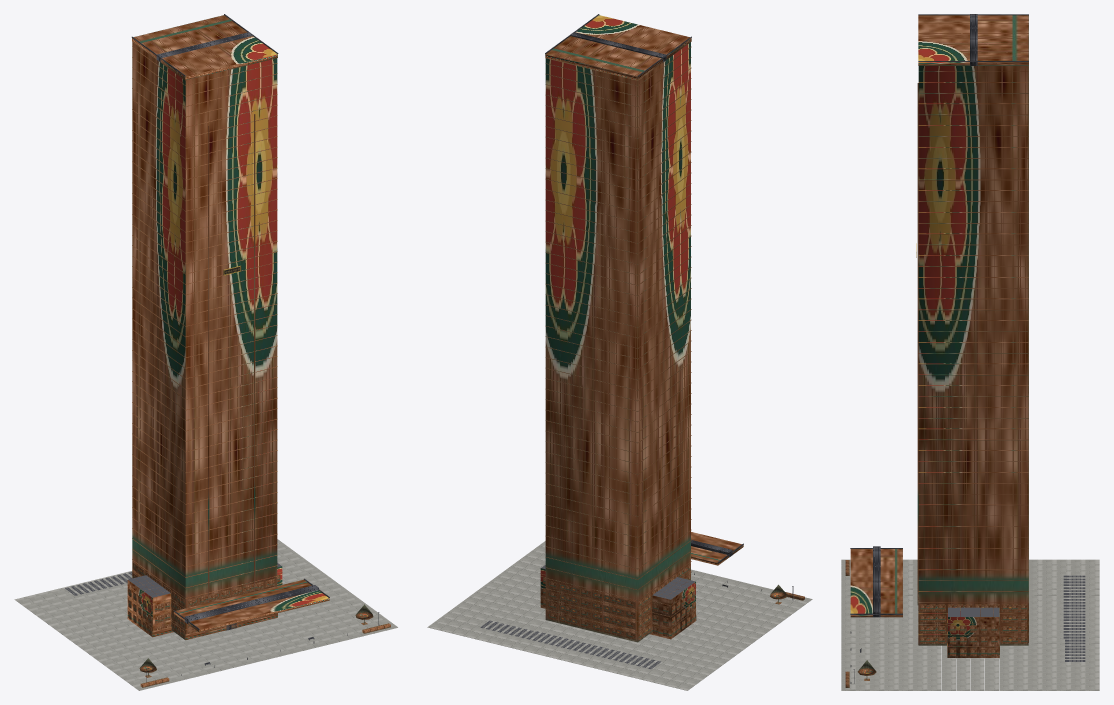
The picture shows the model from 3 angles, left to right: view 1: azimuth 30°, elevation 25°; view 2: azimuth 150°, elevation 25°; view 3: azimuth 270°, elevation 25°; orthographic projection. The views are drawn at different scales.
Parts seen in each view (by area): view 1: 11680_01_06238_002_02__mass_body_facade, 11680_01_06238_002_01__plinth_ground_base, 11680_01_06238_002_03__roof_metal_ornament, 11680_01_06238_002_03__roof_deck_structure, 11680_01_06238_002_06__landscape_greenery; view 2: 11680_01_06238_002_02__mass_body_facade, 11680_01_06238_002_01__plinth_ground_base, 11680_01_06238_002_03__roof_deck_structure, 11680_01_06238_002_03__roof_metal_ornament; view 3: 11680_01_06238_002_02__mass_body_facade, 11680_01_06238_002_01__plinth_ground_base, 11680_01_06238_002_03__roof_deck_structure, 11680_01_06238_002_03__roof_metal_ornament.
Part boxes in pixels (x1=…): 11680_01_06238_002_02__mass_body_facade: x1=127, y1=15, x2=329, y2=640; 11680_01_06238_002_01__plinth_ground_base: x1=14, y1=539, x2=397, y2=690; 11680_01_06238_002_03__roof_metal_ornament: x1=131, y1=14, x2=329, y2=629; 11680_01_06238_002_03__roof_deck_structure: x1=65, y1=563, x2=281, y2=597; 11680_01_06238_002_06__landscape_greenery: x1=139, y1=604, x2=390, y2=687; 11680_01_06238_002_02__mass_body_facade: x1=540, y1=15, x2=743, y2=642; 11680_01_06238_002_01__plinth_ground_base: x1=427, y1=541, x2=812, y2=690; 11680_01_06238_002_03__roof_deck_structure: x1=480, y1=565, x2=695, y2=669; 11680_01_06238_002_03__roof_metal_ornament: x1=545, y1=14, x2=743, y2=562; 11680_01_06238_002_02__mass_body_facade: x1=850, y1=15, x2=1028, y2=657; 11680_01_06238_002_01__plinth_ground_base: x1=841, y1=559, x2=1099, y2=690; 11680_01_06238_002_03__roof_deck_structure: x1=948, y1=575, x2=1085, y2=661; 11680_01_06238_002_03__roof_metal_ornament: x1=850, y1=14, x2=1028, y2=617.
Bounding box in the file's own units: 95.95 × 201 × 79.95.
7 materials, 7 textured.
